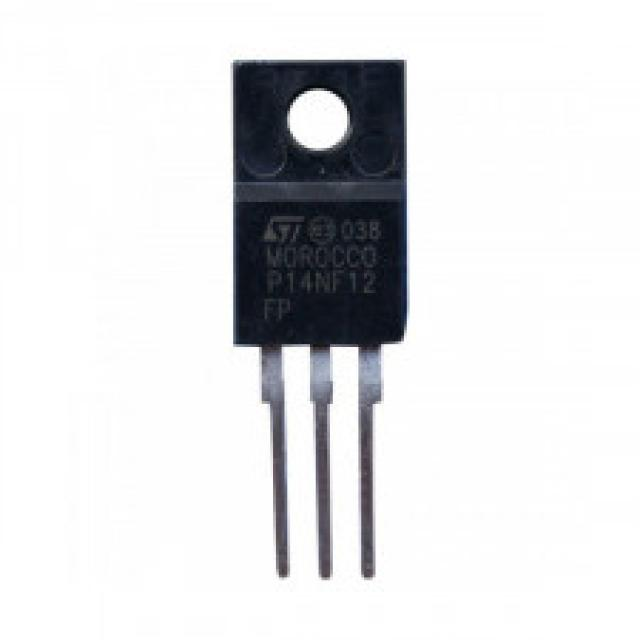Transistor: (235, 61, 408, 584)
